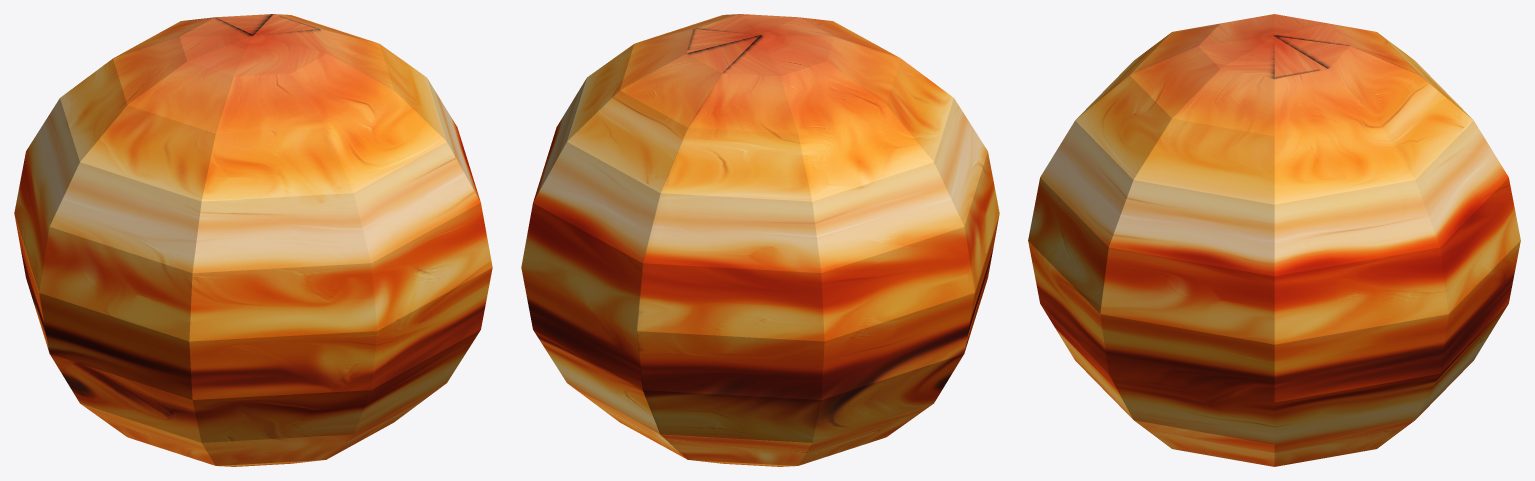
Rendered from jupiter.fbx.
3 views of the same model, side by side, from view 1: azimuth 30°, elevation 25°; view 2: azimuth 150°, elevation 25°; view 3: azimuth 270°, elevation 25° (orthographic).
Parts seen in each view (by area): view 1: pSphere1; view 2: pSphere1; view 3: pSphere1.
Boxes of the visible parts, x1,y1,x2,y2 form: pSphere1: [14, 14, 492, 466]; pSphere1: [521, 14, 999, 466]; pSphere1: [1028, 14, 1520, 466].
Size of the model in its own units: 4.72 by 4.32 by 4.72.
1 material, 1 textured.
